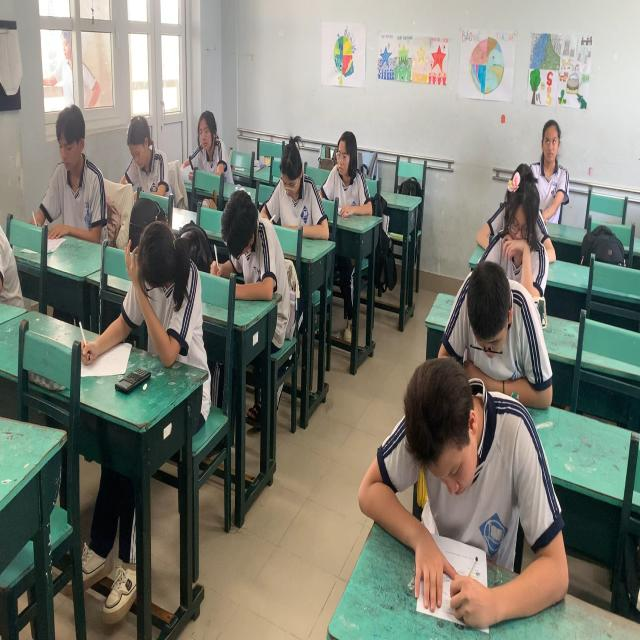not_cheating: (395, 343, 534, 541), (120, 217, 216, 376), (444, 258, 529, 378), (47, 96, 102, 248), (210, 177, 276, 297), (268, 135, 314, 264), (488, 174, 544, 277), (114, 103, 170, 205), (328, 122, 378, 236), (514, 104, 570, 198), (187, 96, 234, 180)
